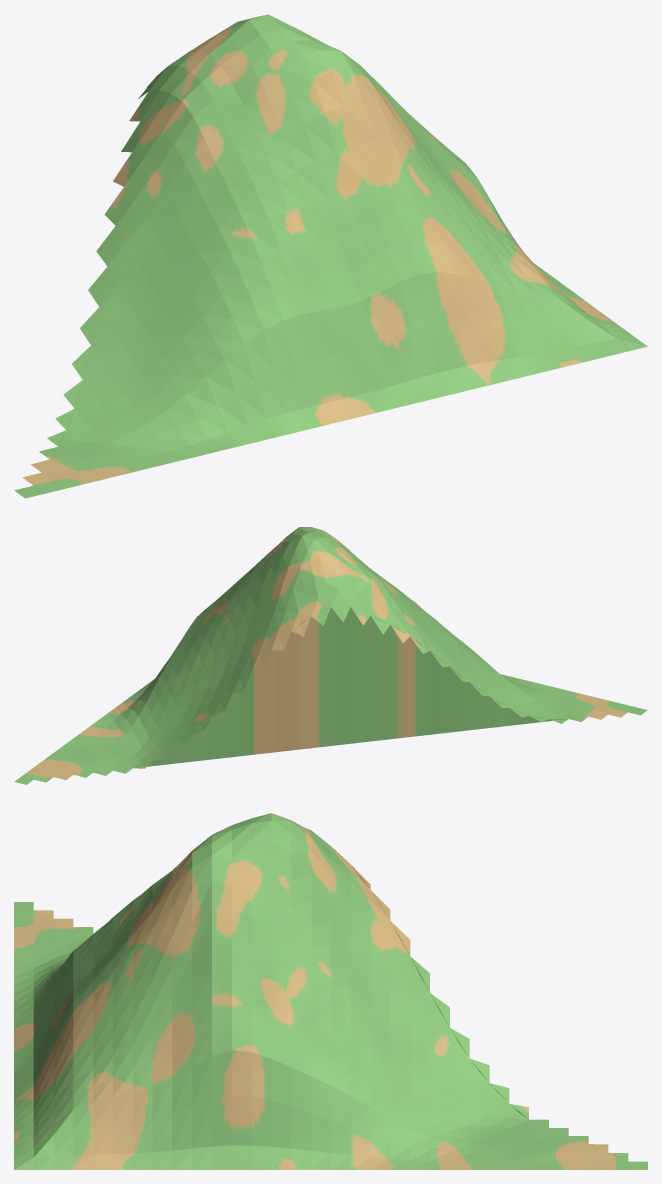
The model's file is Grass_Hills_06_NE.obj.
The picture shows the model from 3 angles, top to bottom: view 1: azimuth 30°, elevation 25°; view 2: azimuth 150°, elevation 25°; view 3: azimuth 270°, elevation 25°; orthographic projection. The views are drawn at different scales.
Bounding box in the file's own units: 10 × 4.33 × 10.
Materials: 1 (1 with a texture image).
